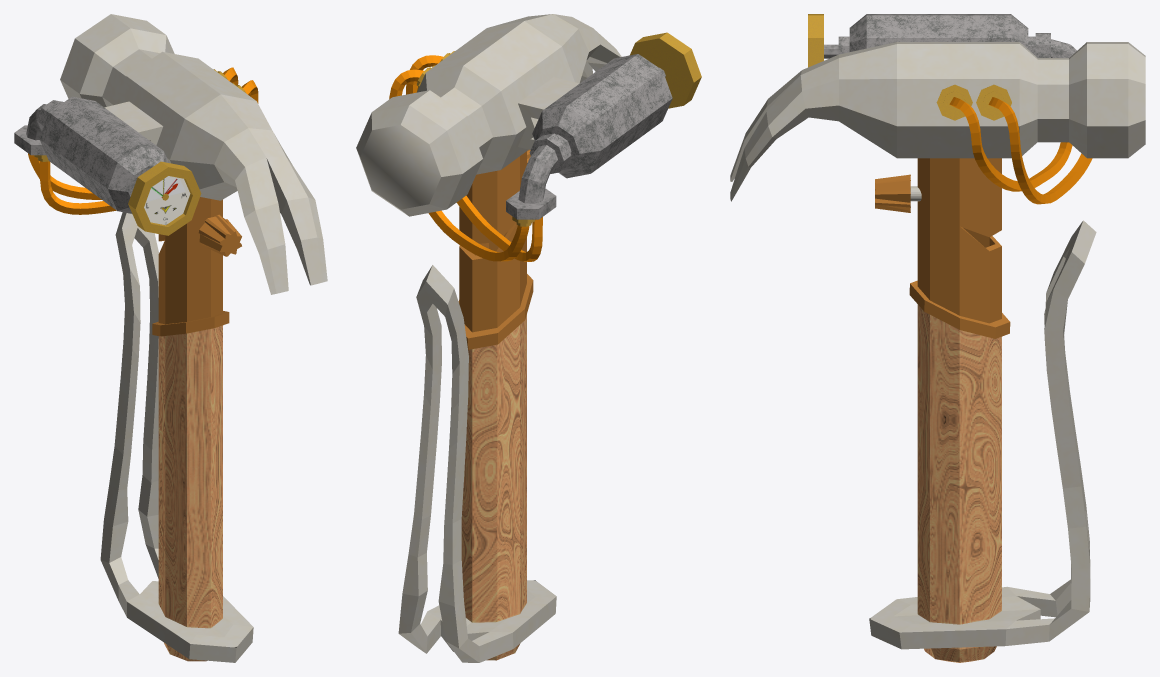
The model's file is Молоток.fbx.
3 renders of one model, left to right at view 1: azimuth 30°, elevation 25°; view 2: azimuth 150°, elevation 25°; view 3: azimuth 270°, elevation 25°, orthographic. The views are drawn at different scales.
Visible parts, largest first — view 1: Cylinder.010; view 2: Cylinder.010; view 3: Cylinder.010.
Part boxes in pixels (<box>): Cylinder.010: <box>14,14,327,662</box>; Cylinder.010: <box>356,14,701,662</box>; Cylinder.010: <box>730,14,1145,662</box>.
Bounding box in the file's own units: 477 × 1321 × 811.
